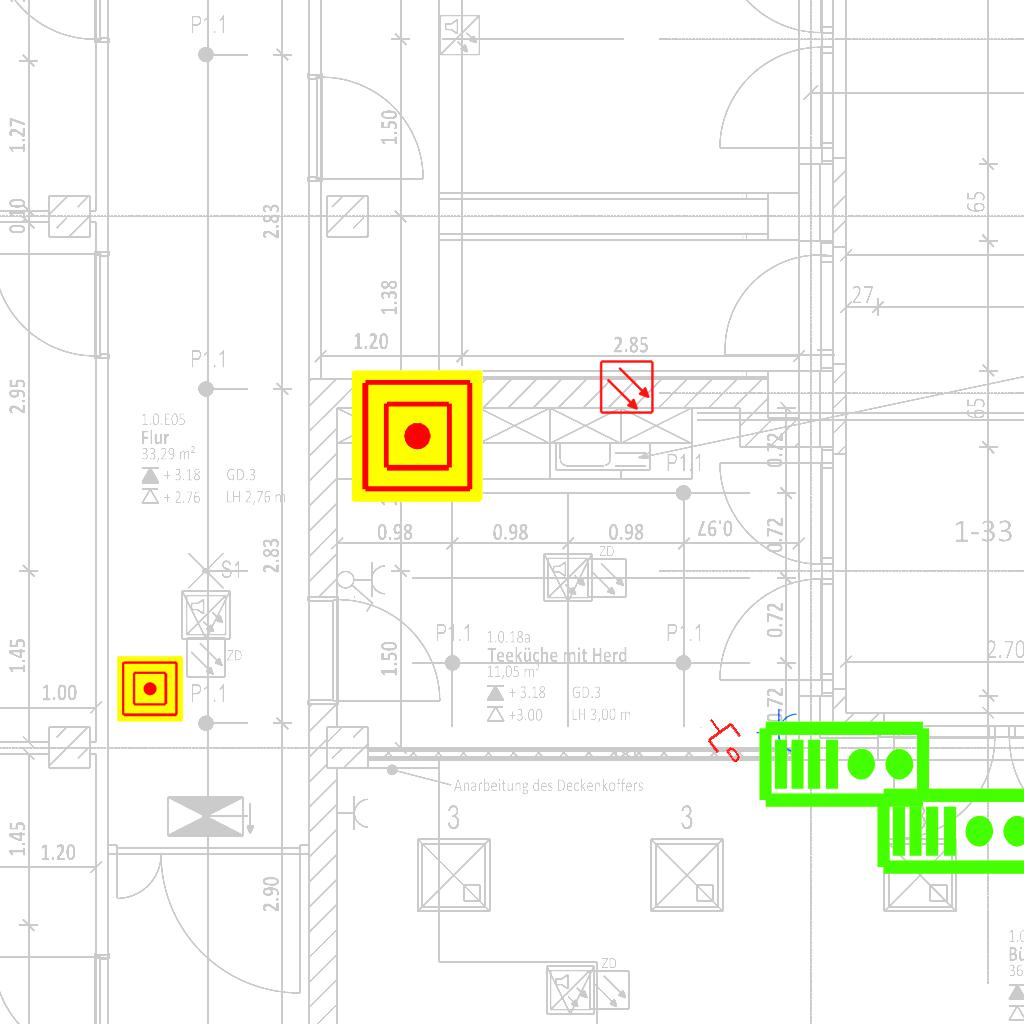Datenanschluss_einfach: (696, 708, 754, 770)
Gegensprechanlage_mit_Video: (757, 715, 933, 810), (875, 782, 1024, 877)
NAM-Nichtautomatischer_Melder: (351, 370, 483, 502), (117, 656, 183, 722)
RMO_Rauchmelder_optischer: (599, 359, 655, 415)
Schukosteckdose_einfach: (756, 708, 799, 758)
